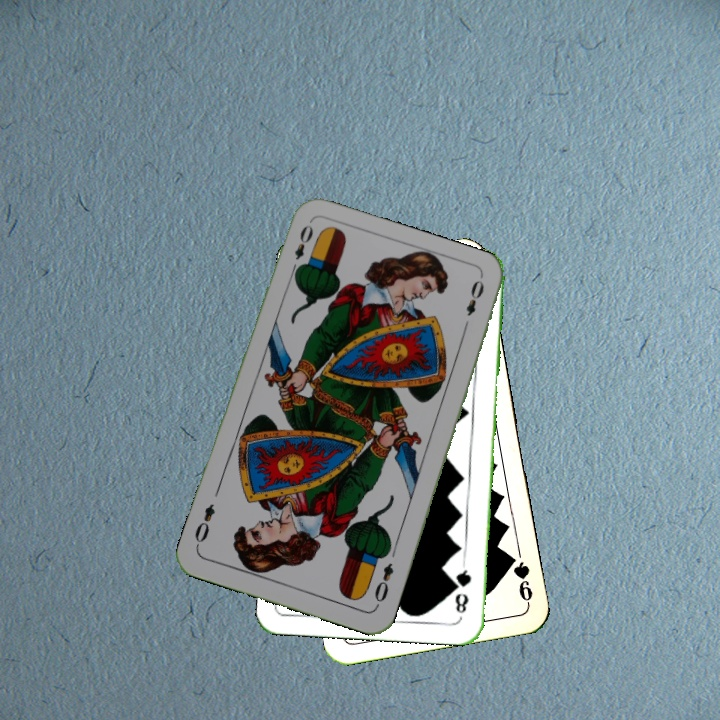EO: (287, 220, 316, 277), (370, 559, 397, 610)
G8: (451, 560, 474, 616)
G9: (504, 550, 535, 607)
